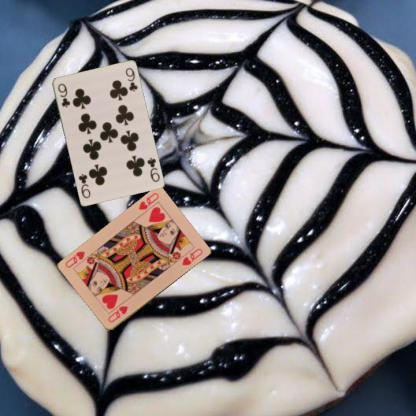9c: (144, 154, 160, 184), (55, 81, 71, 109)
Qh: (105, 302, 130, 324), (136, 190, 160, 212)
